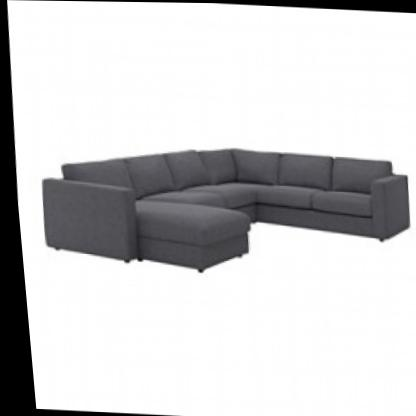Sofa: (22, 110, 416, 288)
